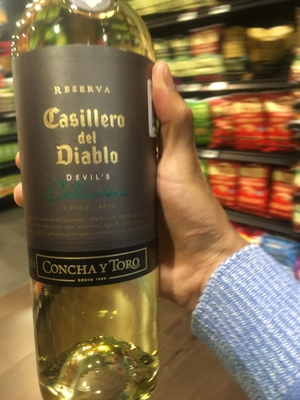casillero del diablo devils collection verde: (9, 9, 171, 400)
